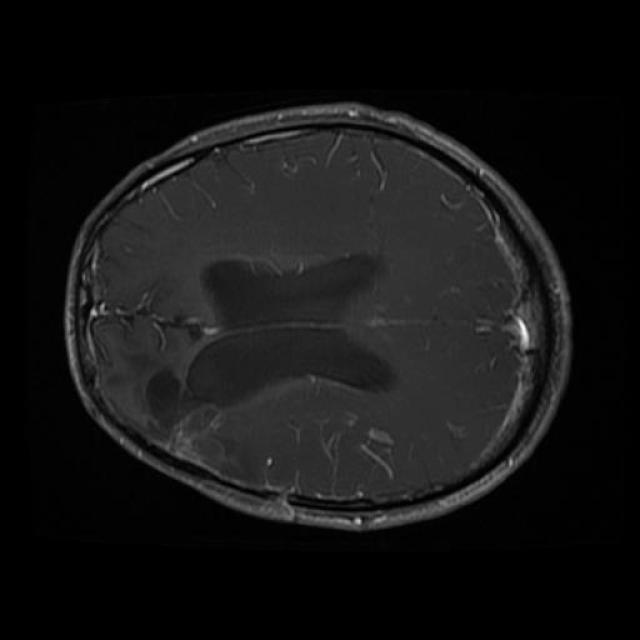Glioma: (133, 369, 278, 498)
